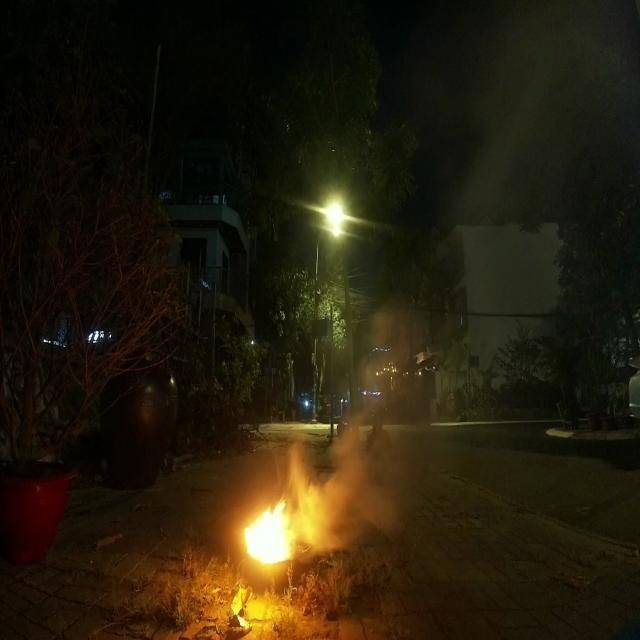Fire: (239, 495, 292, 566)
Smoke: (280, 428, 392, 556)
